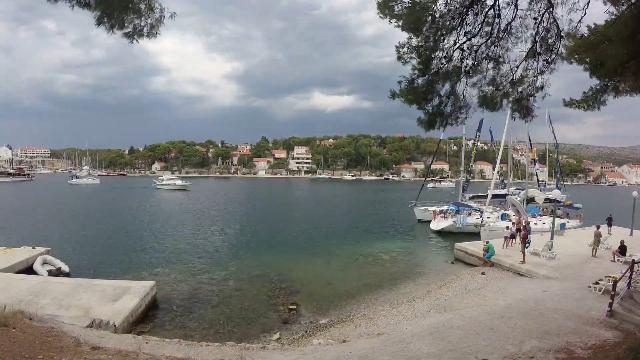Freighter: (0, 162, 48, 188)
Sailboat: (64, 170, 104, 188), (425, 173, 461, 191)
ferry: (148, 168, 196, 197)
